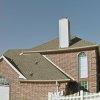Chimney: (50, 10, 87, 59)
